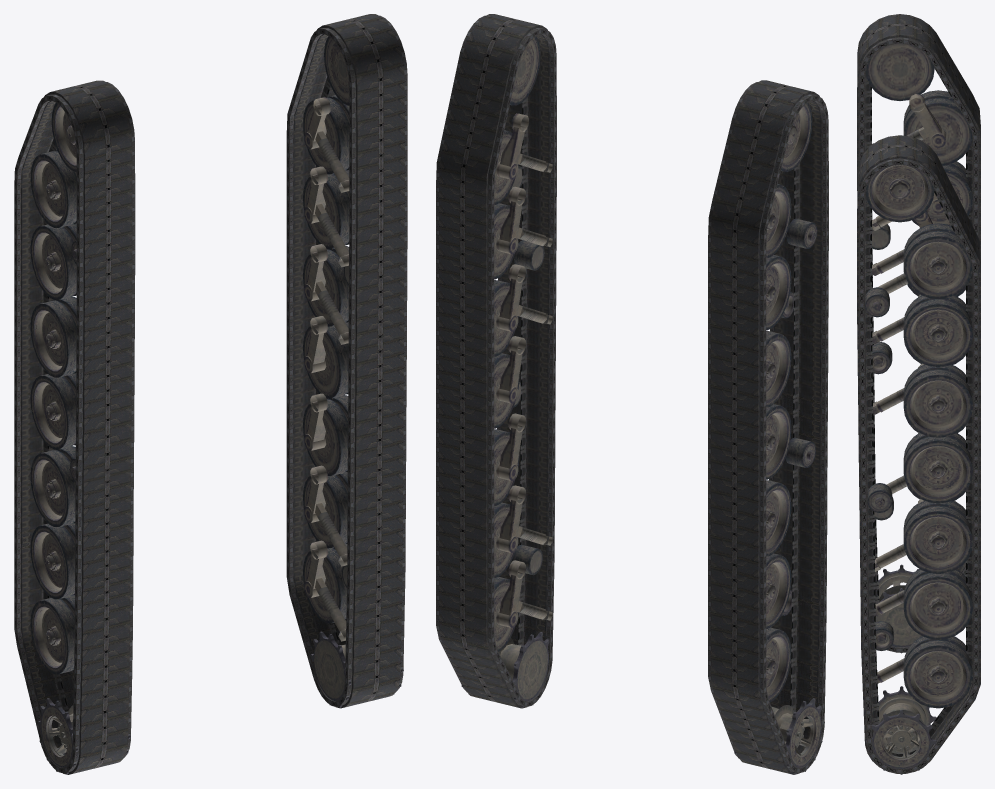
Rendered from Chassis.glb.
3 views of the same model, side by side, from view 1: azimuth 30°, elevation 25°; view 2: azimuth 150°, elevation 25°; view 3: azimuth 270°, elevation 25° (orthographic). The views are drawn at different scales.
Visible parts, largest first — view 1: set_1_group_0, set_0_group_0, set_3_group_0, set_2_group_0; view 2: set_1_group_0, set_0_group_0, set_3_group_0, set_2_group_0; view 3: set_3_group_0, set_0_group_0, set_2_group_0, set_1_group_0.
Boxes of the visible parts, left/top/right/bottom form: set_1_group_0: left=14, top=80, right=135, bottom=774; set_0_group_0: left=286, top=14, right=407, bottom=708; set_3_group_0: left=303, top=36, right=403, bottom=707; set_2_group_0: left=30, top=103, right=130, bottom=774; set_1_group_0: left=708, top=80, right=828, bottom=774; set_0_group_0: left=436, top=14, right=556, bottom=708; set_3_group_0: left=461, top=36, right=552, bottom=707; set_2_group_0: left=734, top=103, right=824, bottom=774; set_3_group_0: left=865, top=165, right=972, bottom=774; set_0_group_0: left=857, top=135, right=980, bottom=773; set_2_group_0: left=865, top=43, right=972, bottom=653; set_1_group_0: left=857, top=14, right=980, bottom=652.
Size of the model in its own units: 3.24 by 6.4 by 1.16.
Materials: 4 (4 with a texture image).
